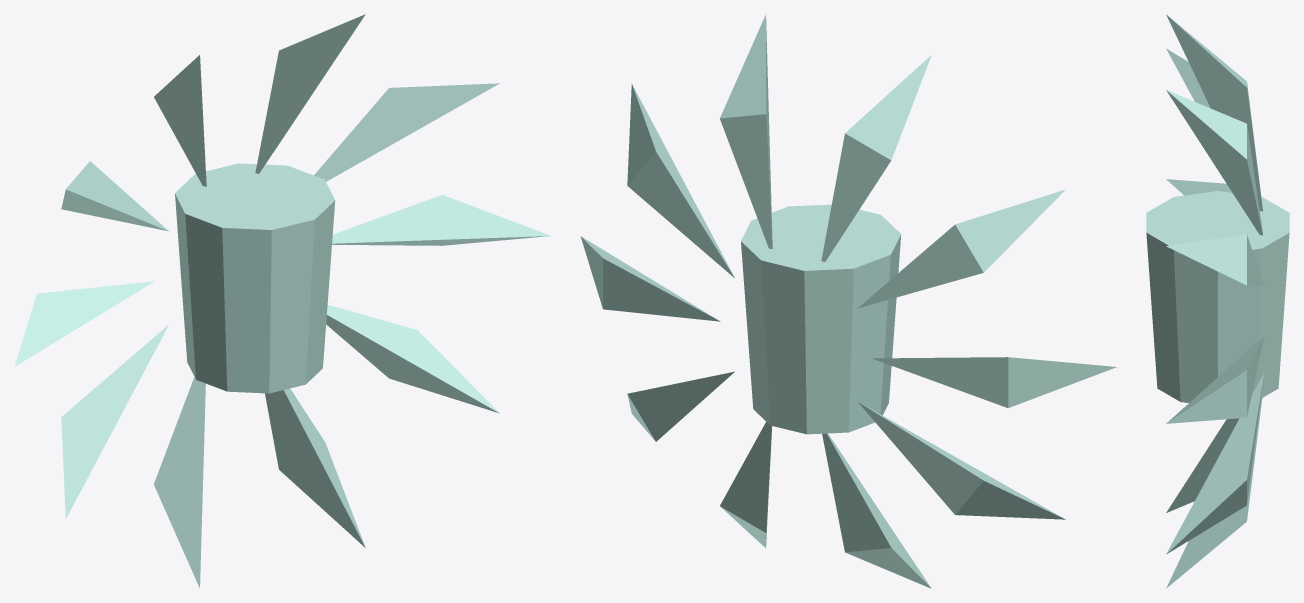
The model's file is crystal-rosette.obj.
3 views of the same model, side by side, from view 1: azimuth 30°, elevation 25°; view 2: azimuth 150°, elevation 25°; view 3: azimuth 270°, elevation 25° (orthographic). The views are drawn at different scales.
Size of the model in its own units: 1 by 0.9511 by 0.2473.
